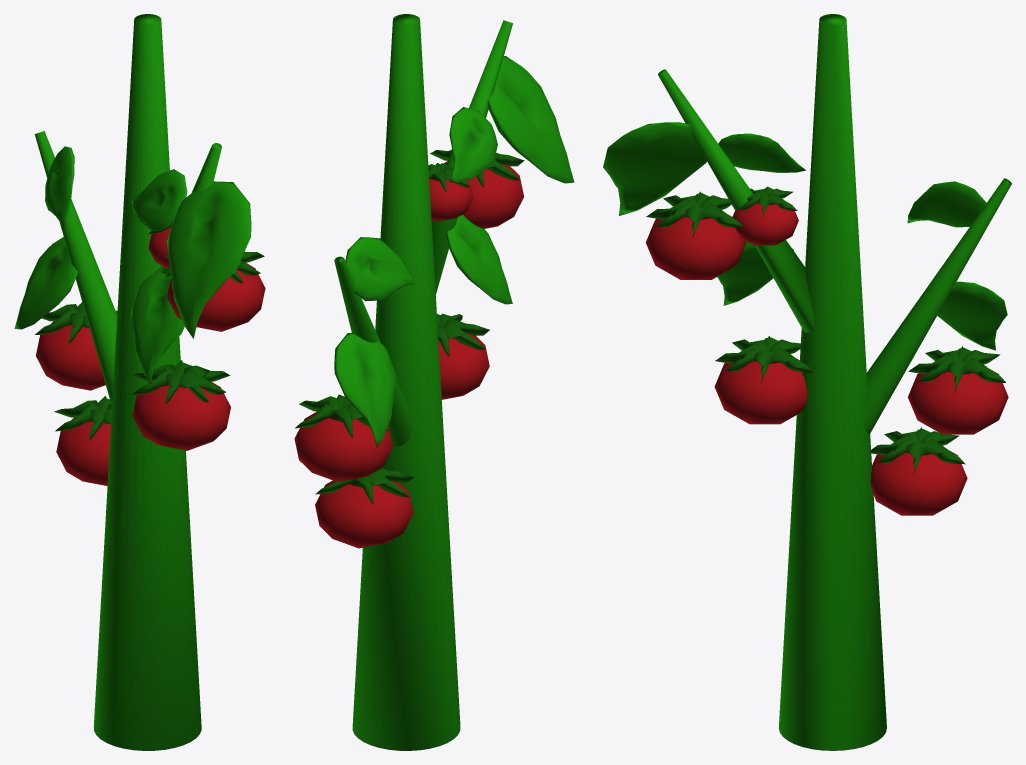
The model's file is tomato.glb.
3 views of the same model, side by side, from view 1: azimuth 30°, elevation 25°; view 2: azimuth 150°, elevation 25°; view 3: azimuth 270°, elevation 25° (orthographic).
Visible parts, largest first — view 1: Cylinder.001, Icosphere.003, Icosphere.005, Icosphere.001, Icosphere.002, Icosphere.004; view 2: Cylinder.001, Icosphere.001, Icosphere.005, Icosphere.003, Icosphere.002, Icosphere.004; view 3: Cylinder.001, Icosphere.005, Icosphere.001, Icosphere.002, Icosphere.003, Icosphere.004.
Boxes of the visible parts, x1,y1,x2,y2 form: Cylinder.001: [14, 14, 251, 750]; Icosphere.003: [130, 360, 230, 450]; Icosphere.005: [35, 302, 117, 390]; Icosphere.001: [54, 396, 111, 485]; Icosphere.002: [164, 251, 265, 331]; Icosphere.004: [148, 222, 173, 268]; Cylinder.001: [334, 14, 574, 750]; Icosphere.001: [315, 462, 413, 548]; Icosphere.005: [294, 394, 393, 482]; Icosphere.003: [437, 313, 489, 399]; Icosphere.002: [430, 149, 524, 228]; Icosphere.004: [428, 163, 473, 221]; Cylinder.001: [603, 14, 1011, 750]; Icosphere.005: [908, 346, 1008, 434]; Icosphere.001: [870, 427, 967, 515]; Icosphere.002: [645, 191, 746, 279]; Icosphere.003: [714, 336, 812, 424]; Icosphere.004: [731, 186, 798, 245].
Bounding box in the file's own units: 0.7956 × 4.98 × 2.61.
16 materials, 16 textured.
